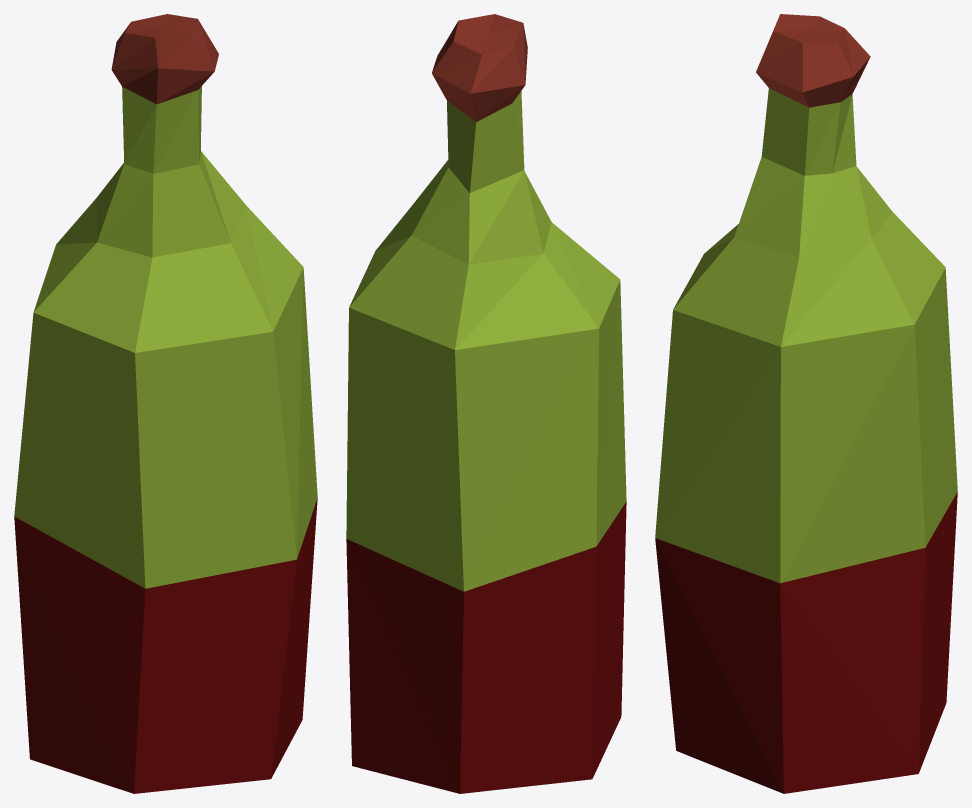
The model's file is RG-Dungeon_Flask-06.fbx.
3 renders of one model, left to right at view 1: azimuth 30°, elevation 25°; view 2: azimuth 150°, elevation 25°; view 3: azimuth 270°, elevation 25°, orthographic.
Parts seen in each view (by area): view 1: RG-Dungeon_Flask-06; view 2: RG-Dungeon_Flask-06; view 3: RG-Dungeon_Flask-06.
Boxes of the visible parts, left/top/right/bottom form: RG-Dungeon_Flask-06: left=14, top=14, right=317, bottom=793; RG-Dungeon_Flask-06: left=346, top=14, right=626, bottom=793; RG-Dungeon_Flask-06: left=655, top=14, right=957, bottom=793.
Size of the model in its own units: 1.21 by 3.11 by 1.2.
